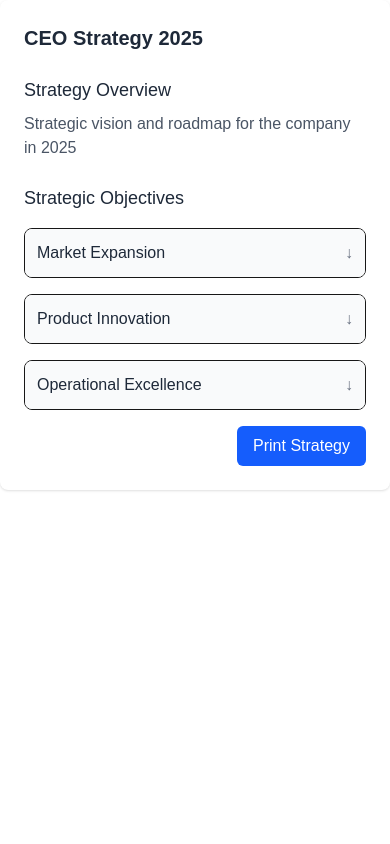
Test: CLevelStrategy Interaction › expands objective details when clicked
Expected: the text "New markets entered" is not shown
Кликаем на цель, чтобы раскрыть детали
Click the heading "Market Expansion" at [101, 253], box [37,241,165,265]
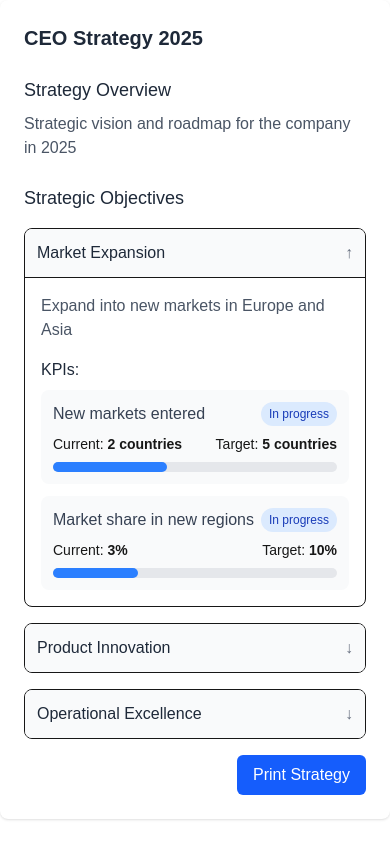
Result: the text "New markets entered" is shown at [53,402,205,426]
Result: the text "Market share in new regions" is shown at [53,508,254,532]
